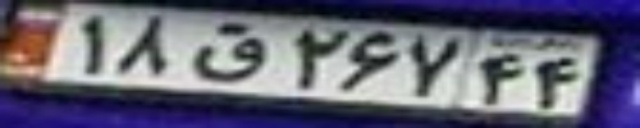1: (80, 13, 105, 74)
2: (294, 27, 344, 89)
4: (476, 53, 524, 105), (534, 55, 578, 110)
6: (345, 28, 398, 90)
7: (406, 31, 461, 99)
8: (116, 13, 166, 73)
ghaf: (189, 22, 267, 79)
